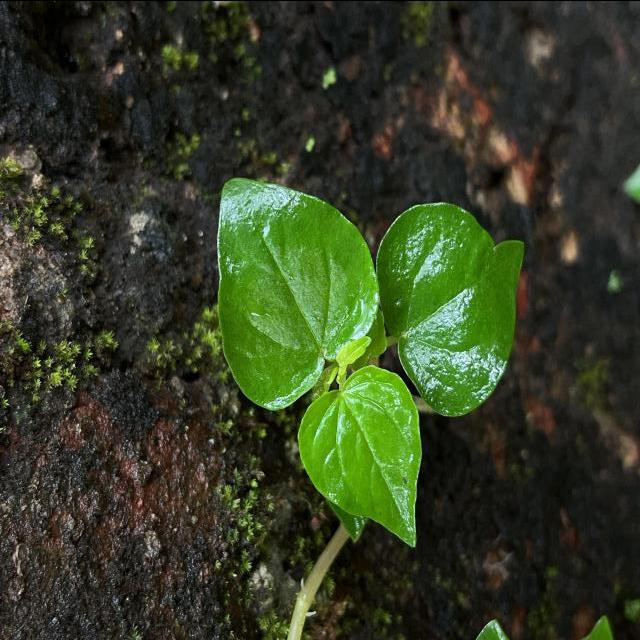Peperomia pellucida: (214, 172, 380, 412), (374, 197, 526, 420), (296, 362, 425, 549)
